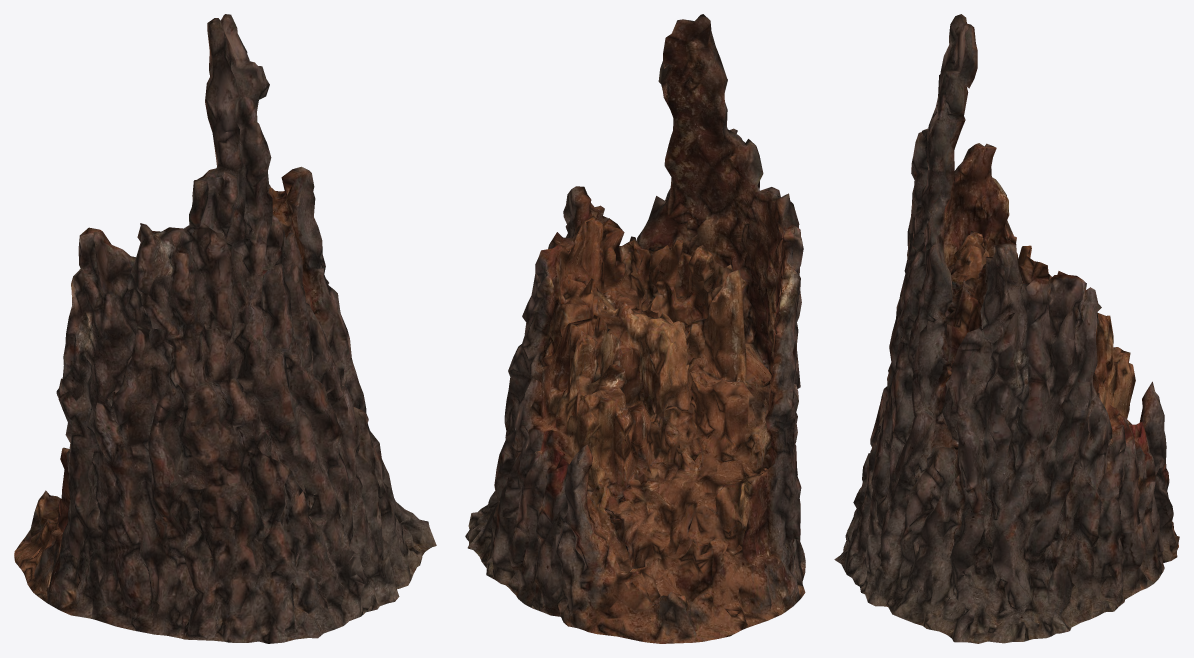
The model's file is stump-broken.glb.
3 renders of one model, left to right at view 1: azimuth 30°, elevation 25°; view 2: azimuth 150°, elevation 25°; view 3: azimuth 270°, elevation 25°, orthographic. The views are drawn at different scales.
Visible parts, largest first — view 1: wj0sfins_HIGH_TIER0_000; view 2: wj0sfins_HIGH_TIER0_000; view 3: wj0sfins_HIGH_TIER0_000.
Part boxes in pixels (x1,y1,x2,y2): wj0sfins_HIGH_TIER0_000: [14, 14, 436, 643]; wj0sfins_HIGH_TIER0_000: [465, 14, 805, 643]; wj0sfins_HIGH_TIER0_000: [834, 14, 1179, 643].
Bounding box in the file's own units: 1.18 × 1.84 × 1.08.
1 material, 1 textured.
